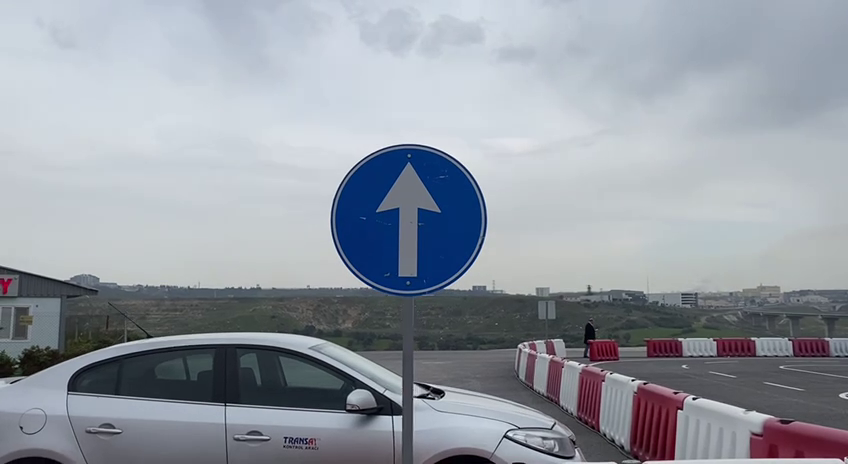forward: (328, 140, 488, 301)
